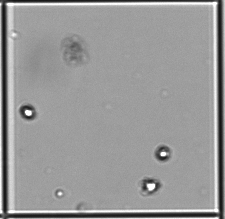Living Cell: (141, 177, 162, 194), (19, 104, 35, 119), (155, 145, 171, 160)
